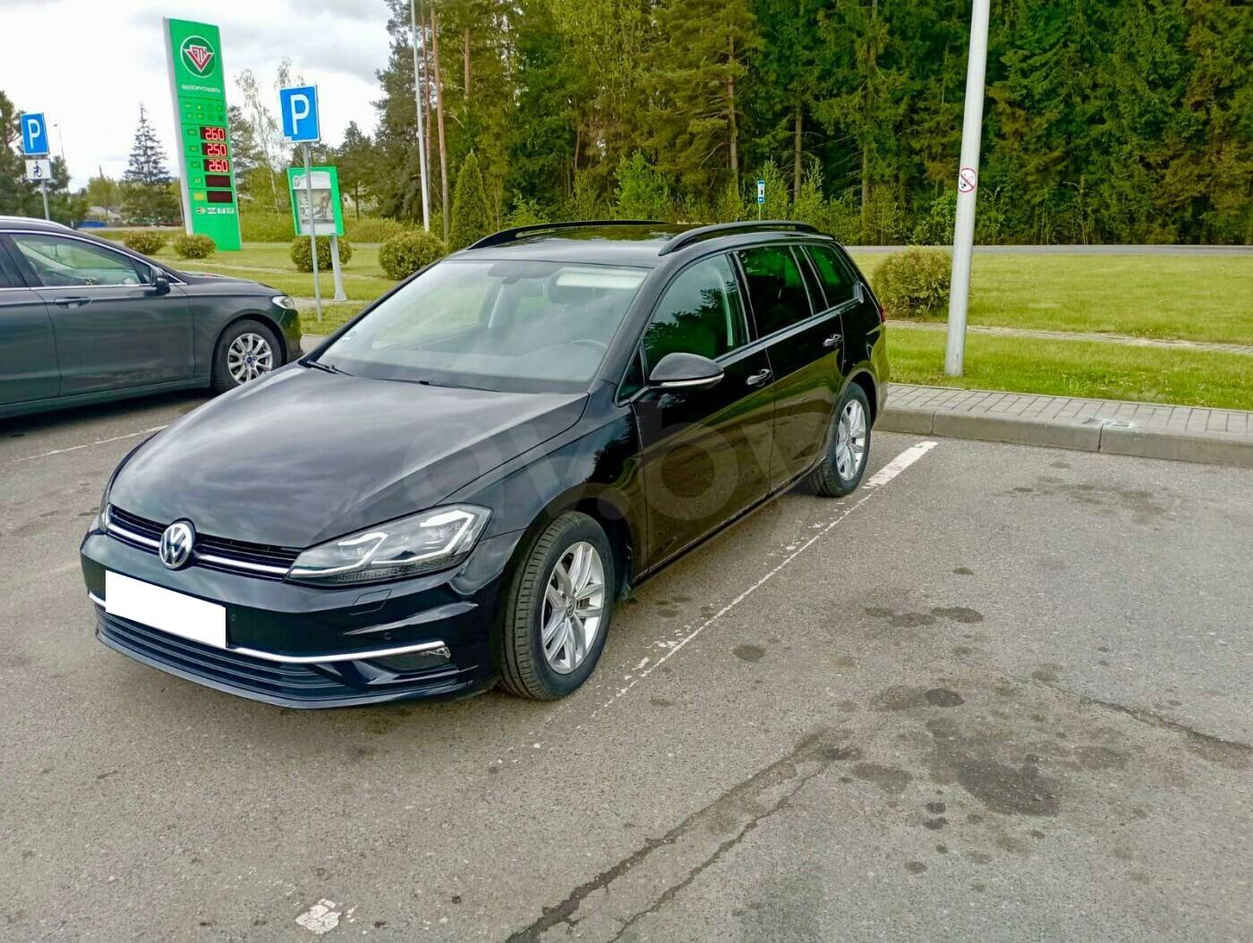Golf_2017-2021: (64, 215, 913, 707)
